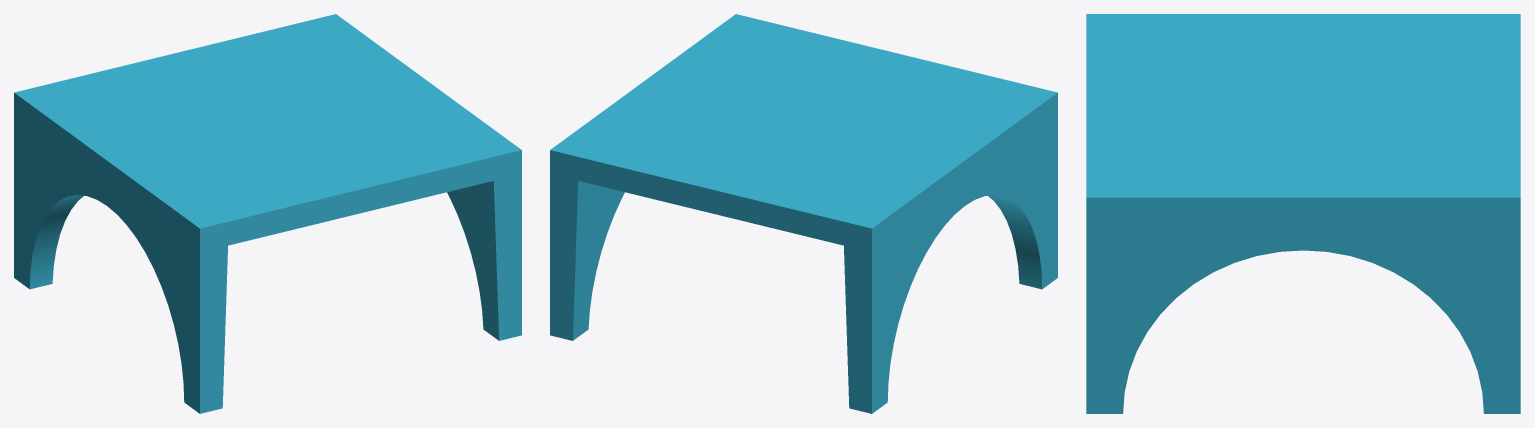
File: manhole.glb
The picture shows the model from 3 angles, left to right: view 1: azimuth 30°, elevation 25°; view 2: azimuth 150°, elevation 25°; view 3: azimuth 270°, elevation 25°; orthographic projection. The views are drawn at different scales.
Parts seen in each view (by area): view 1: 零件1.SLDPRT; view 2: 零件1.SLDPRT; view 3: 零件1.SLDPRT.
Part boxes in pixels (x1,y1,x2,y2): 零件1.SLDPRT: [14, 14, 521, 413]; 零件1.SLDPRT: [550, 14, 1057, 413]; 零件1.SLDPRT: [1086, 14, 1520, 413].
Size of the model in its own units: 2.4 by 1.32 by 2.4.
